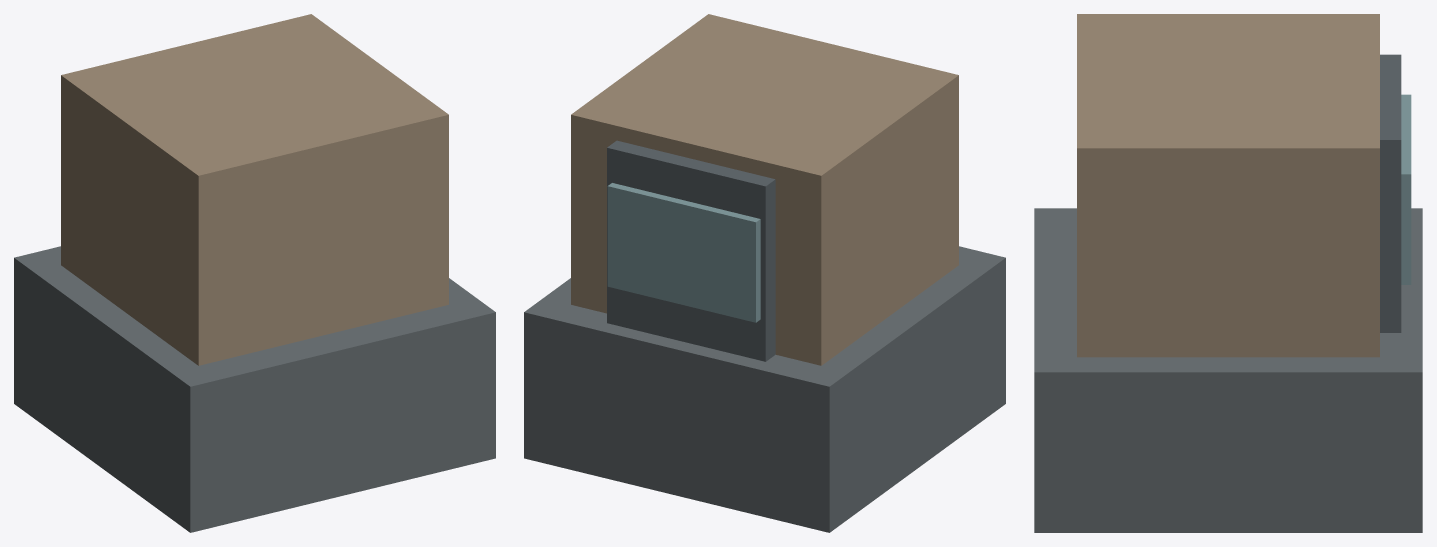
The model's file is iz3_prison_toilet_02.glb.
3 renders of one model, left to right at view 1: azimuth 30°, elevation 25°; view 2: azimuth 150°, elevation 25°; view 3: azimuth 270°, elevation 25°, orthographic. The views are drawn at different scales.
Visible parts, largest first — view 1: cabinet, base; view 2: base, cabinet, display, panel; view 3: cabinet, base, panel, display.
Part boxes in pixels (bbox=[...]): cabinet: bbox=[61, 14, 448, 365]; base: bbox=[14, 246, 495, 532]; base: bbox=[524, 246, 1005, 532]; cabinet: bbox=[571, 14, 958, 365]; display: bbox=[607, 183, 760, 322]; panel: bbox=[607, 140, 775, 361]; cabinet: bbox=[1077, 14, 1379, 357]; base: bbox=[1034, 208, 1422, 532]; panel: bbox=[1380, 54, 1401, 332]; display: bbox=[1401, 94, 1411, 284].
Bounding box in the file's own units: 0.7 × 0.736 × 0.7.
